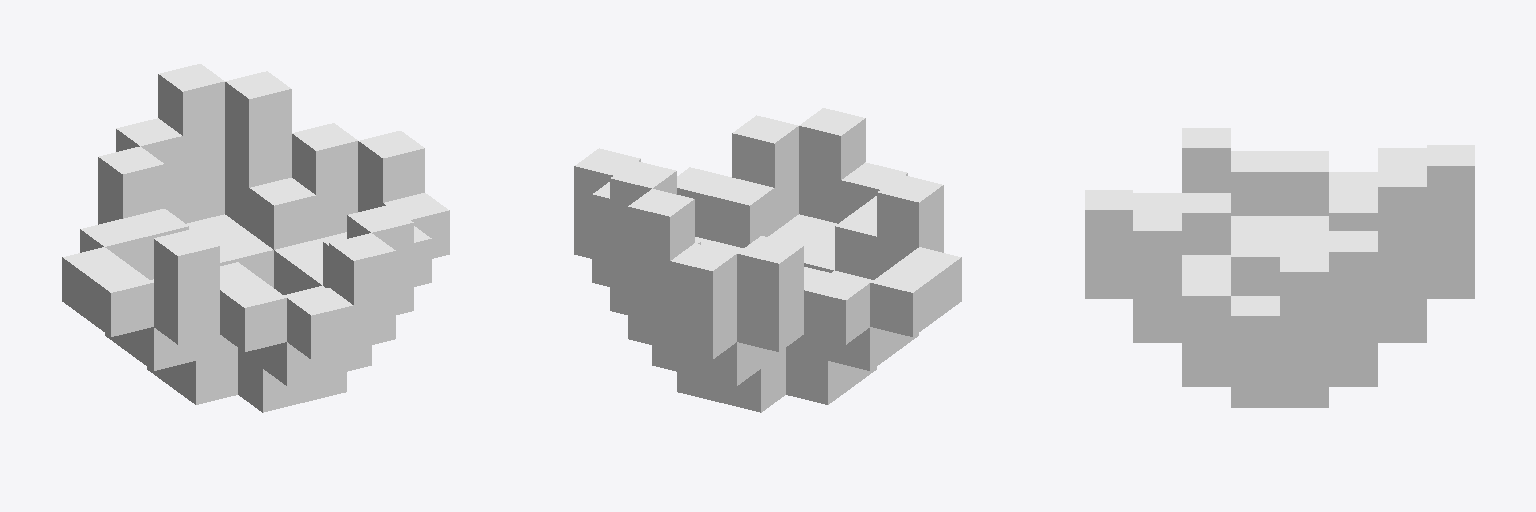
The model's file is EggBrokenBottom.obj.
3 renders of one model, left to right at view 1: azimuth 30°, elevation 25°; view 2: azimuth 150°, elevation 25°; view 3: azimuth 270°, elevation 25°, orthographic.
Parts seen in each view (by area): view 1: object 1; view 2: object 1; view 3: object 1.
Part boxes in pixels (bbox=[...]): object 1: bbox=[62, 64, 449, 412]; object 1: bbox=[574, 108, 961, 412]; object 1: bbox=[1085, 128, 1474, 407].
Size of the model in its own units: 0.8 by 0.5 by 0.8.